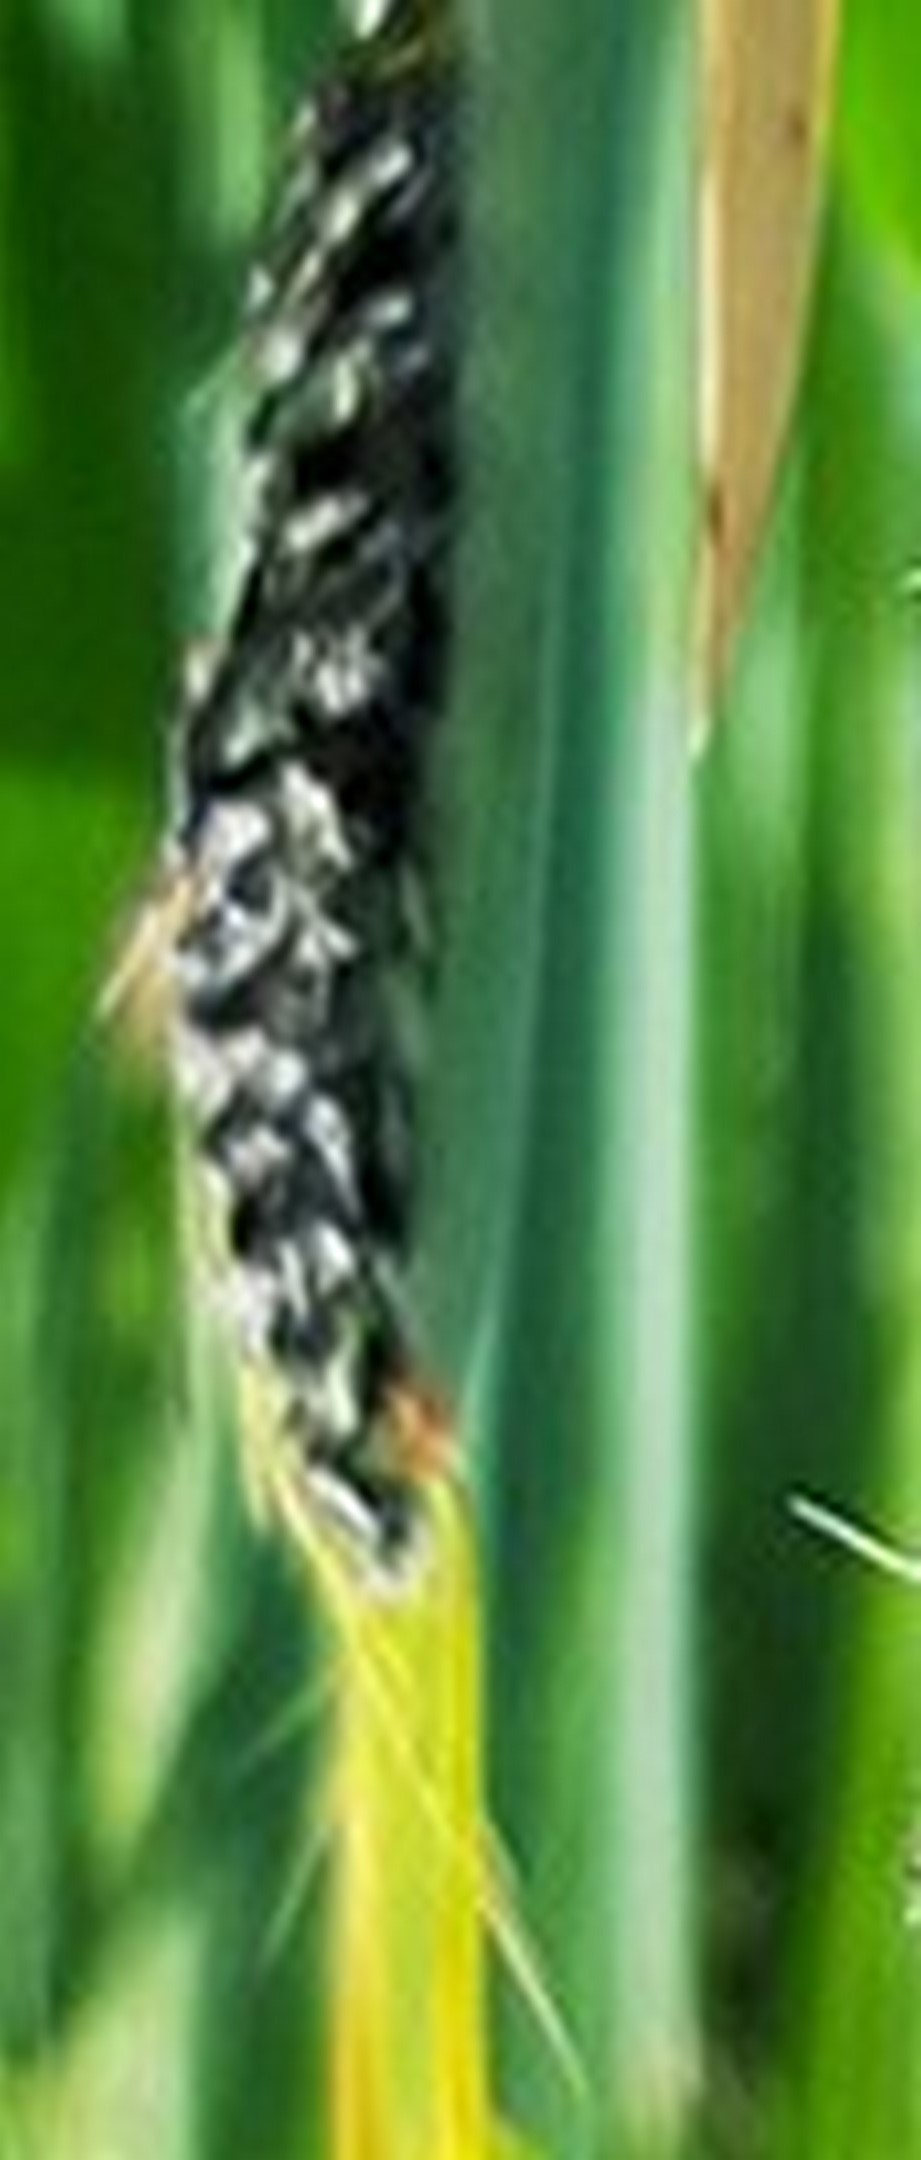Wheat Loose Smut: (107, 112, 566, 1656)
